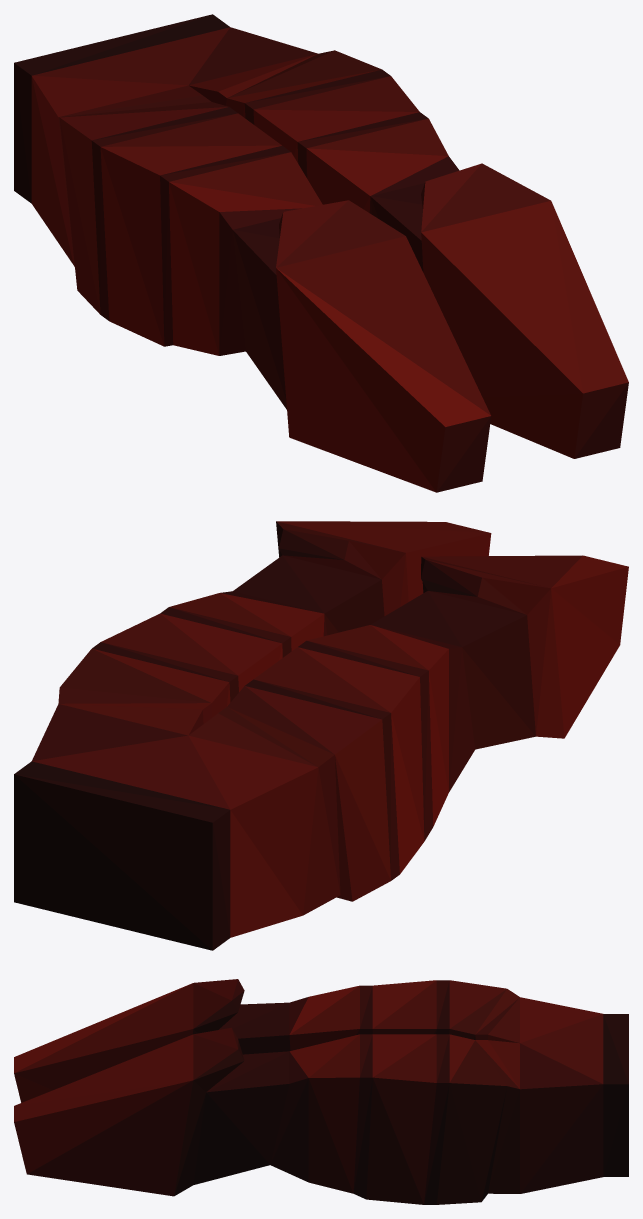
The model's file is dragon-platelegs.obj.
3 views of the same model, one above another, from view 1: azimuth 30°, elevation 25°; view 2: azimuth 150°, elevation 25°; view 3: azimuth 270°, elevation 25° (orthographic). The views are drawn at different scales.
Visible parts, largest first — view 1: Item Dragon platelegs 2026-09-24_18-23-35; view 2: Item Dragon platelegs 2026-09-24_18-23-35; view 3: Item Dragon platelegs 2026-09-24_18-23-35.
Part boxes in pixels (<box>): Item Dragon platelegs 2026-09-24_18-23-35: <box>14,14,628,492</box>; Item Dragon platelegs 2026-09-24_18-23-35: <box>14,521,628,950</box>; Item Dragon platelegs 2026-09-24_18-23-35: <box>14,979,628,1204</box>.
Bounding box in the file's own units: 38 × 24 × 96.
